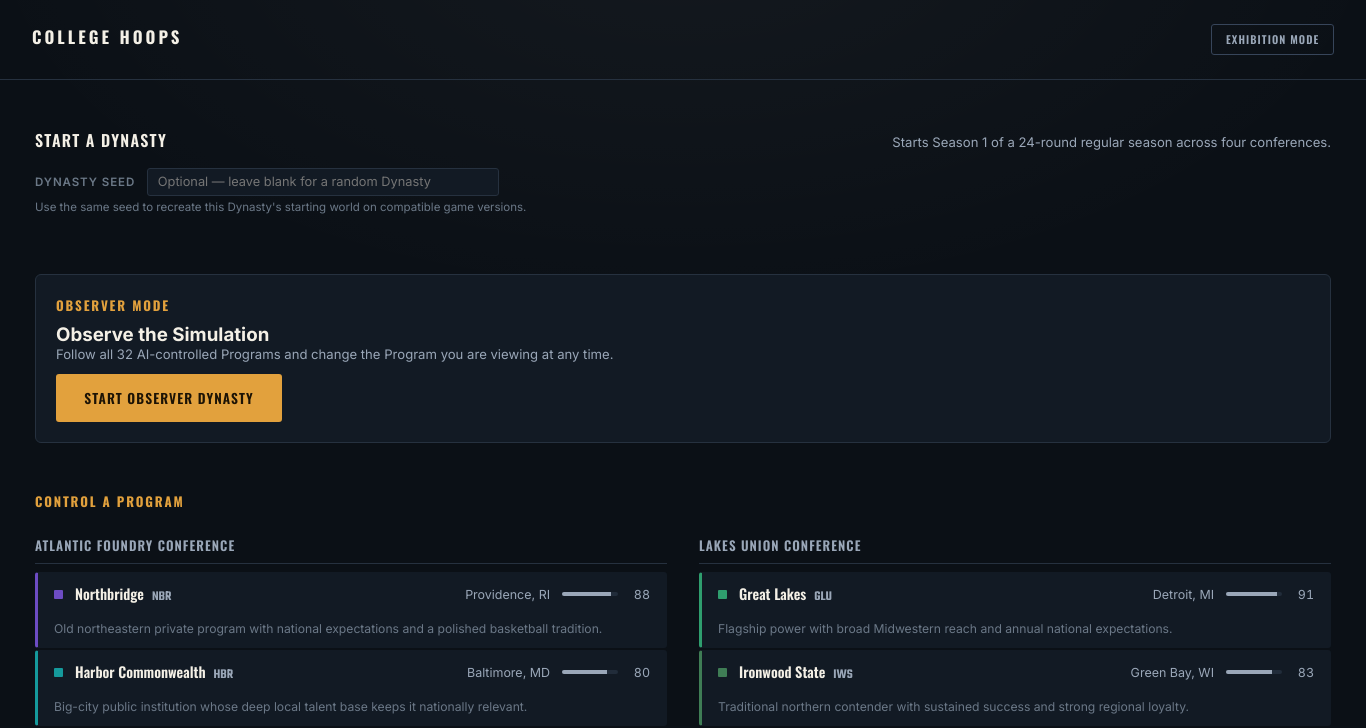
Scenario: App › switches to the Exhibition sandbox and back via the mode toggle
Step 1. Click the button "Exhibition Mode" → (1273, 39), box [1211, 24, 1334, 55]
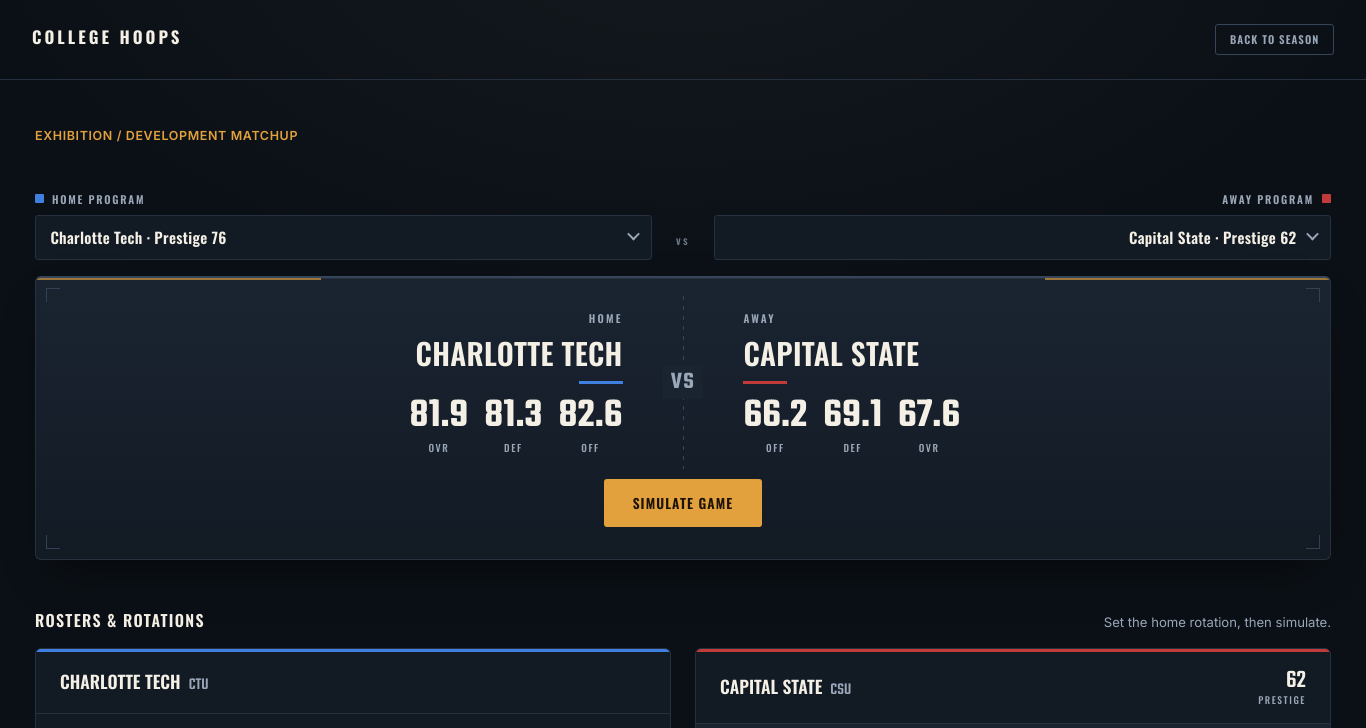
Check: the text "Exhibition / Development Matchup" is shown, box [35, 128, 298, 143]
Step 2. Click the button "Back to Season" → (1275, 39), box [1215, 24, 1334, 55]
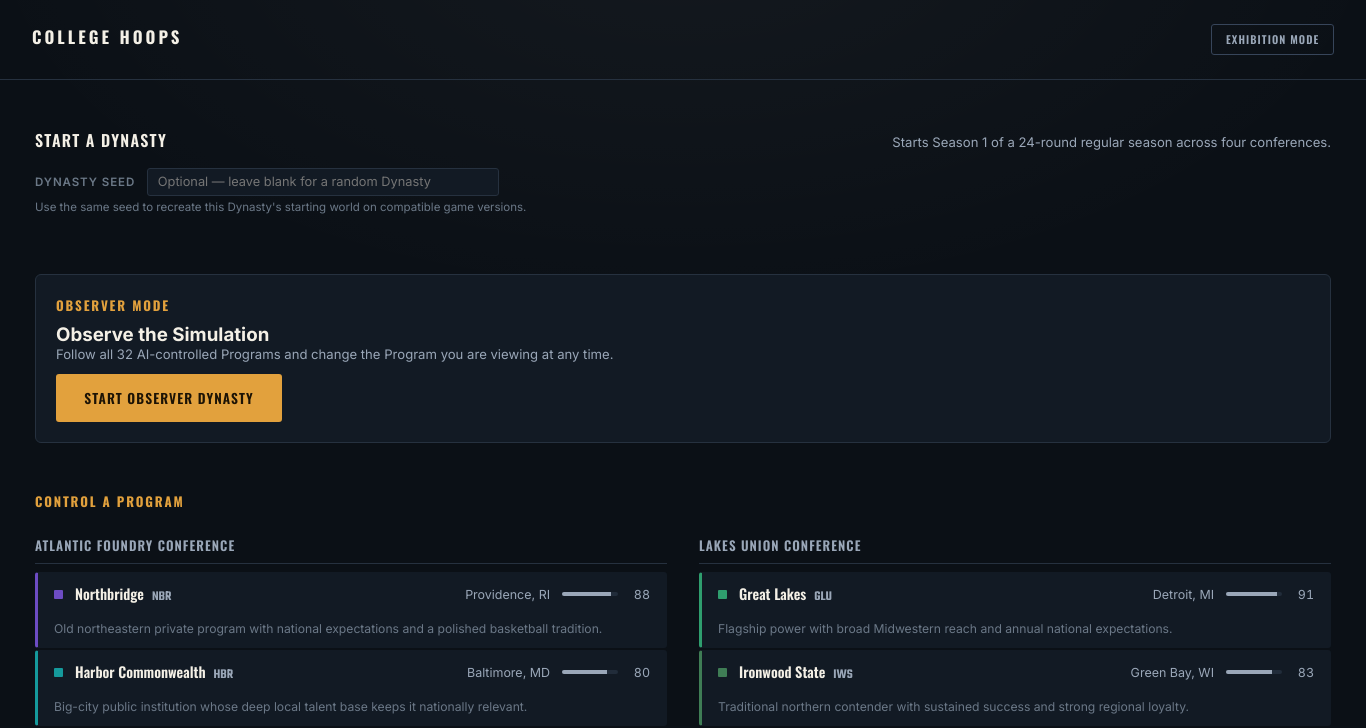
Check: the heading "Start a Dynasty" is shown, box [35, 128, 167, 152]
